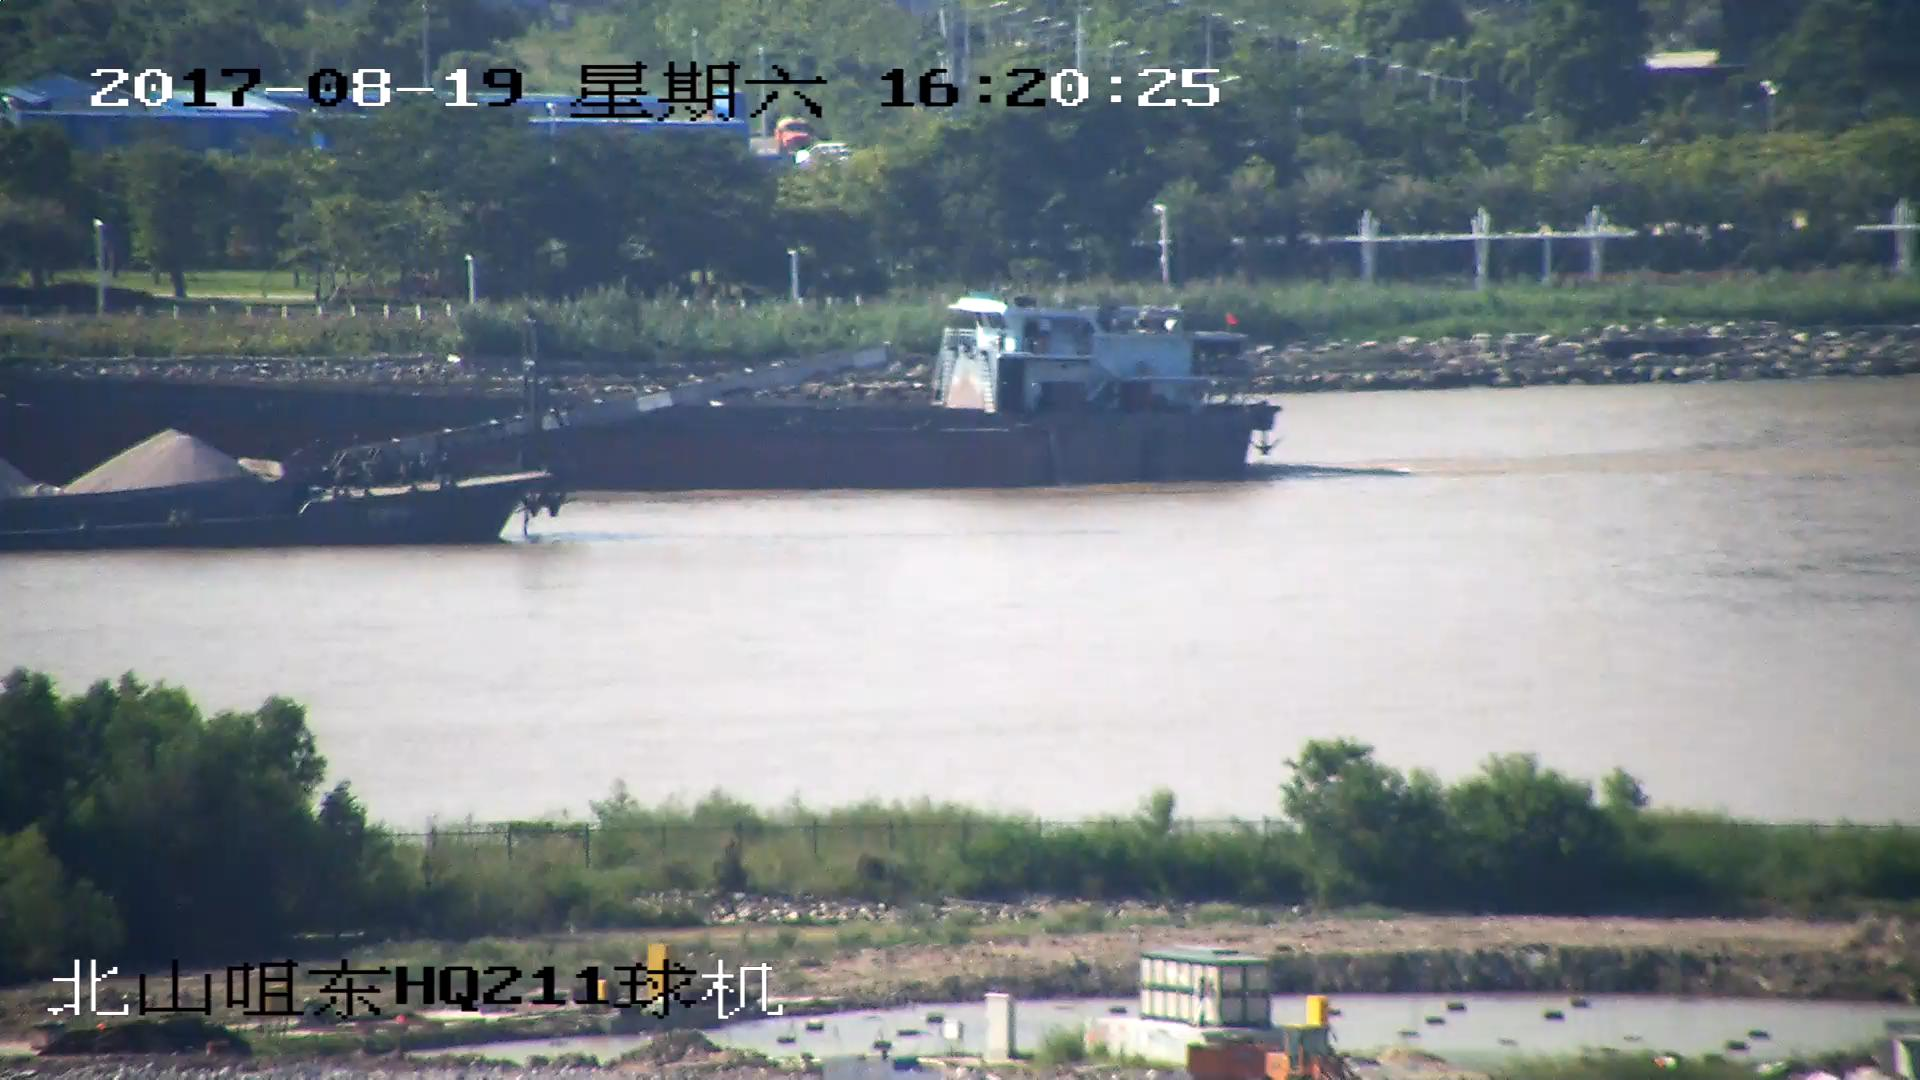bulk cargo carrier: (1, 293, 1274, 479)
ore carrier: (1, 348, 879, 549)
